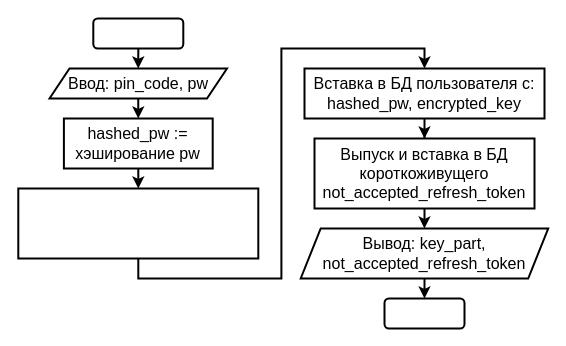
This 566x346 diagram has some shape labels left out. The box of each missing label's shape, as (x1, y1, x2, y2) in pixels:
Генерация key_part Формирование key и его зашифрование: encrypted_key: (17, 187, 259, 259)
КОНЕЦ: (383, 297, 465, 329)
НАЧАЛО: (92, 17, 184, 49)
